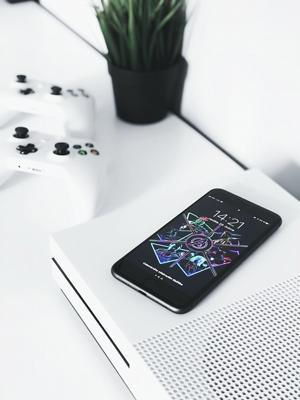Mobile Phone: (109, 186, 282, 314)
